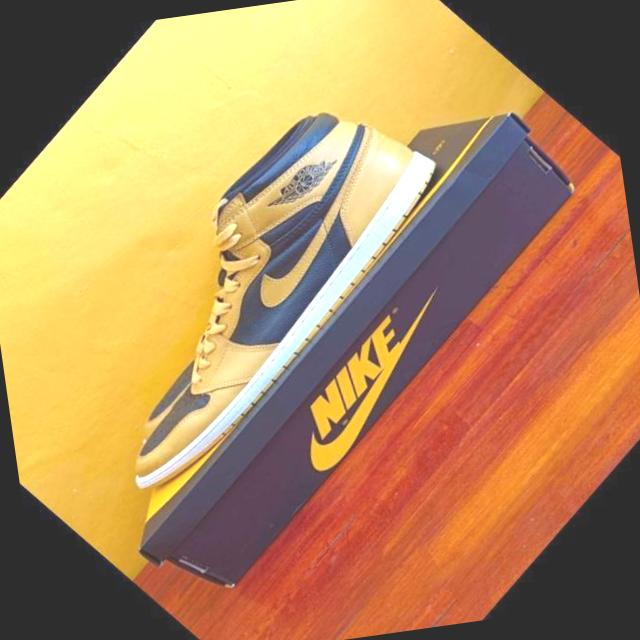nike_original_jordan: (3, 57, 498, 528)
